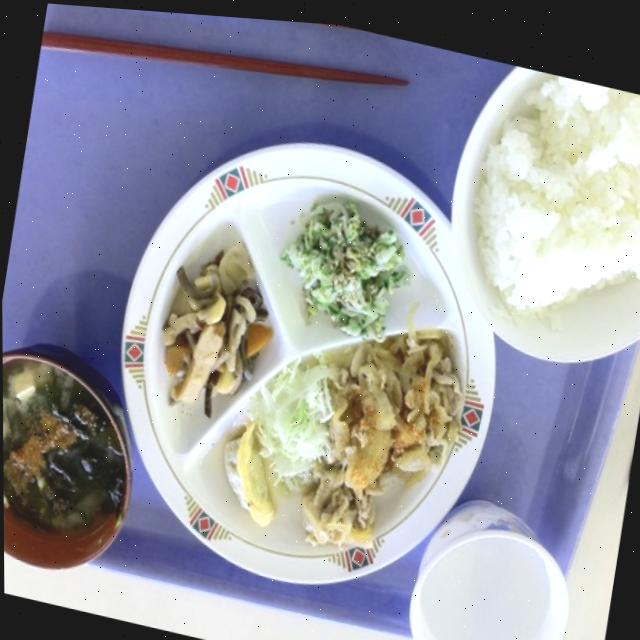米饭主食: (422, 44, 640, 382)
